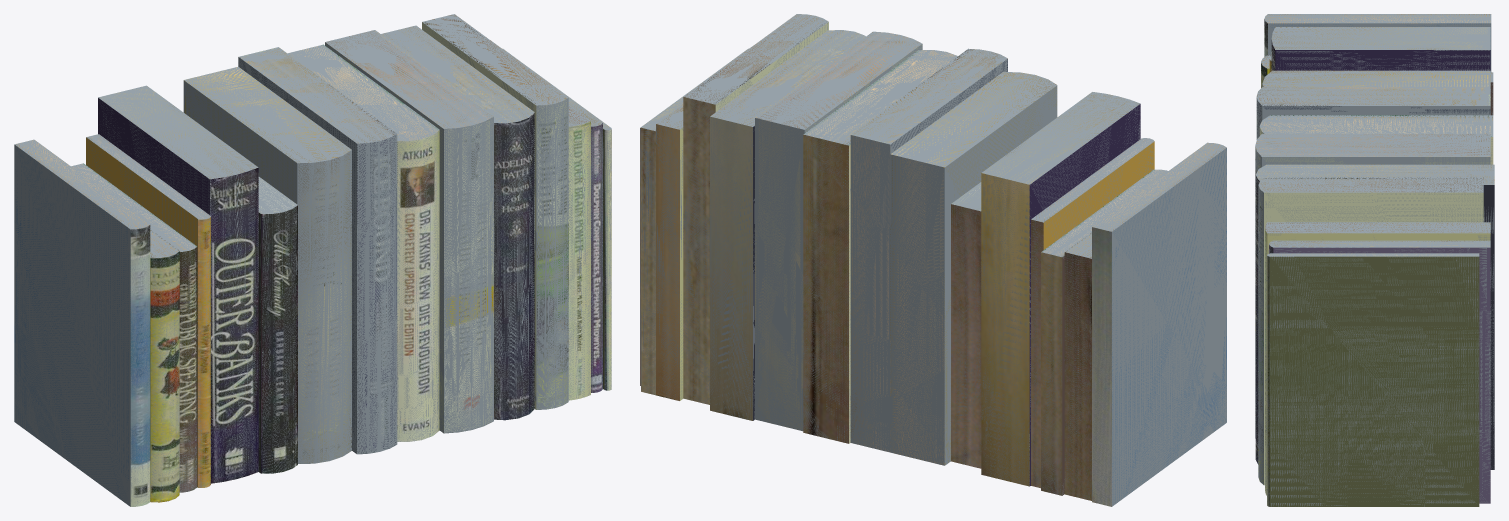
3 renders of one model, left to right at view 1: azimuth 30°, elevation 25°; view 2: azimuth 150°, elevation 25°; view 3: azimuth 270°, elevation 25°, orthographic. The views are drawn at different scales.
Visible parts, largest first — view 1: Book (×15); view 2: Book (×14); view 3: Book (×11).
Part boxes in pixels (x1,y1,x2,y2): Book (×15): (14, 14, 611, 506); Book (×14): (641, 14, 1226, 506); Book (×11): (1255, 14, 1494, 506).
Bounding box in the file's own units: 14.15 × 6.33 × 8.72.
38 materials, 37 textured.
